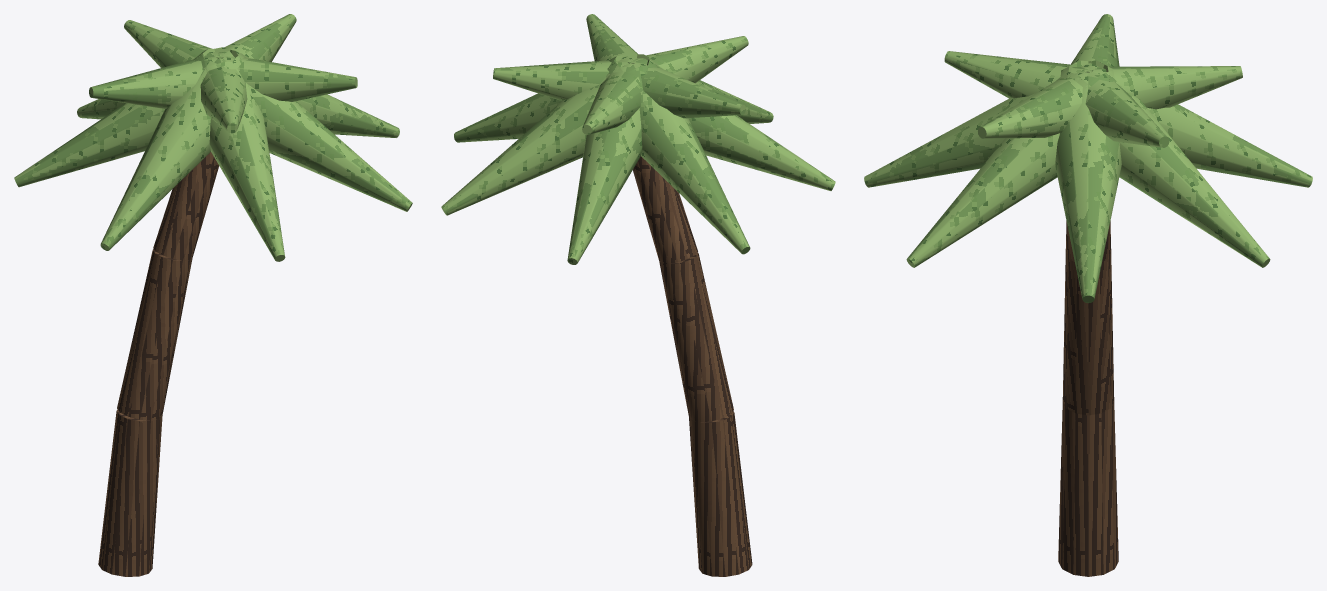
The model's file is spec_palm_tree_0.glb.
The picture shows the model from 3 angles, left to right: view 1: azimuth 30°, elevation 25°; view 2: azimuth 150°, elevation 25°; view 3: azimuth 270°, elevation 25°; orthographic projection. The views are drawn at different scales.
Visible parts, largest first — view 1: spec_palm_tree_0; view 2: spec_palm_tree_0; view 3: spec_palm_tree_0.
Part boxes in pixels (x1=…): spec_palm_tree_0: x1=14, y1=14, x2=412, y2=576; spec_palm_tree_0: x1=441, y1=14, x2=835, y2=576; spec_palm_tree_0: x1=864, y1=14, x2=1312, y2=576.
Bounding box in the file's own units: 2.89 × 3.99 × 2.96.
Materials: 2 (2 with a texture image).
